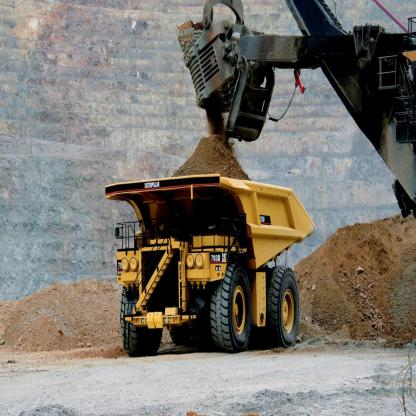dump_truck: (109, 143, 329, 359)
